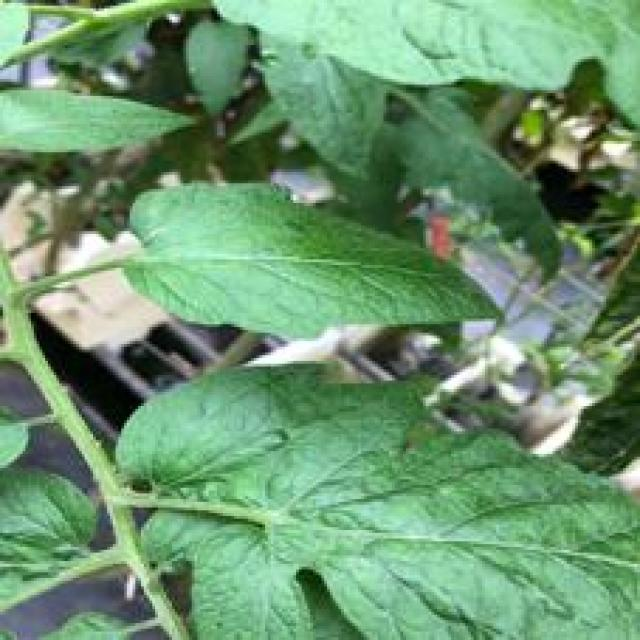Tomato healthy leaf: (120, 362, 640, 640), (119, 180, 511, 342), (0, 90, 195, 152)
